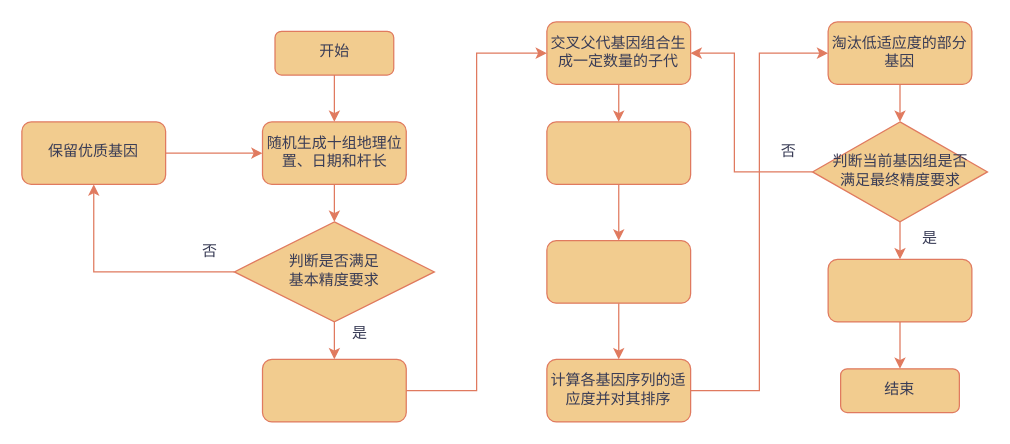
Some shapes in this 1010 by 444 pixel diagram are drawn without their labels. The centre of each missing label's shape, as x and y in pixels:
"以一定的概率对子代基因序列进行变异" belongs at (618,152).
"将优质基因组合的信息均转化为基因序列" belongs at (333,390).
"提取当前各存活基因序列的各项信息" belongs at (618,271).
"提取最终进化的优质基因信息" belongs at (899,290).
